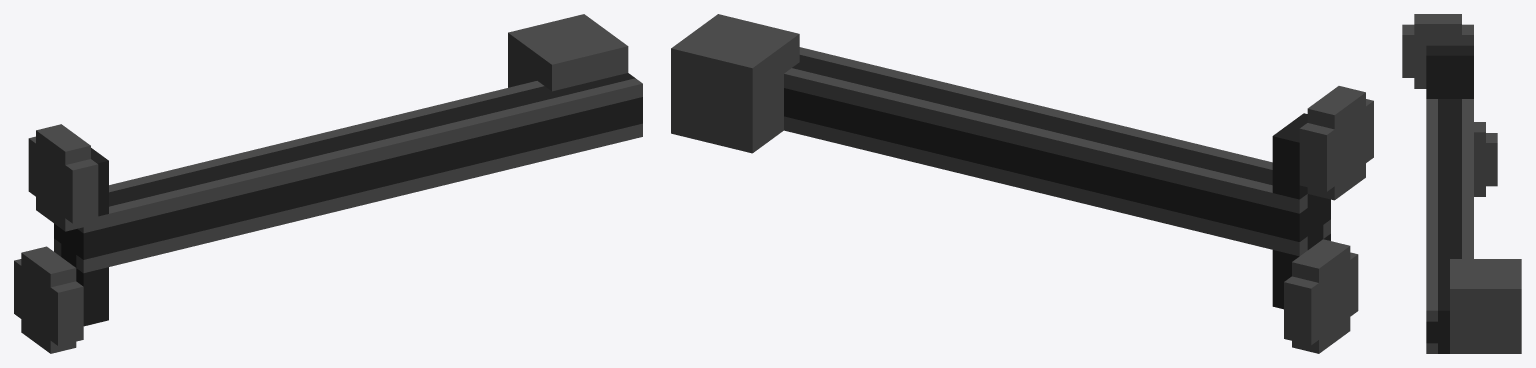
The model's file is printer 2 lay.obj.
3 views of the same model, side by side, from view 1: azimuth 30°, elevation 25°; view 2: azimuth 150°, elevation 25°; view 3: azimuth 270°, elevation 25° (orthographic). The views are drawn at different scales.
Bounding box in the file's own units: 4.6 × 1.6 × 1.
